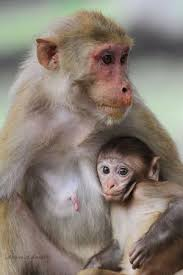monkey: (13, 14, 172, 257)
